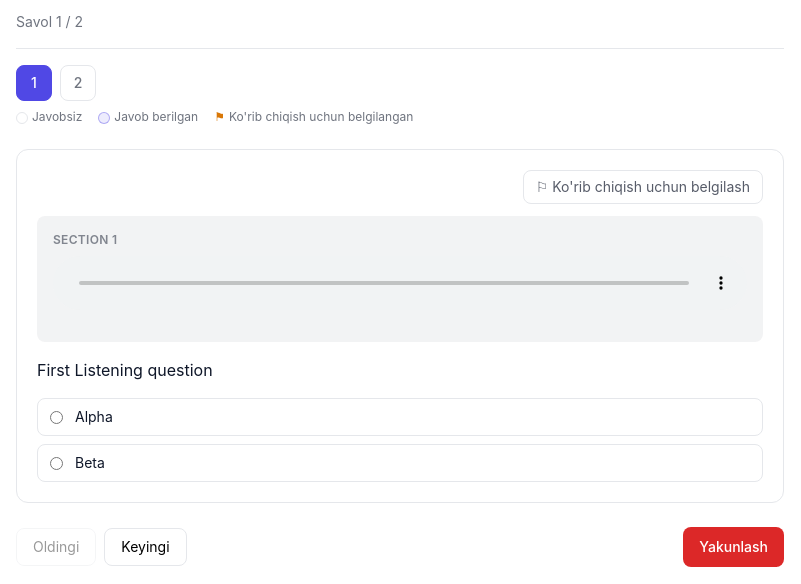
Test: AttemptPage — Task 3 question-group media › keeps the same audio element mounted when moving between questions of the same group
Expected: the text "Brauzeringiz audio pleyerni qo'llab-quvvatlamaydi." is shown, [53,256,747,310]
Click the button "Keyingi": (145, 547) [104,528,187,566]
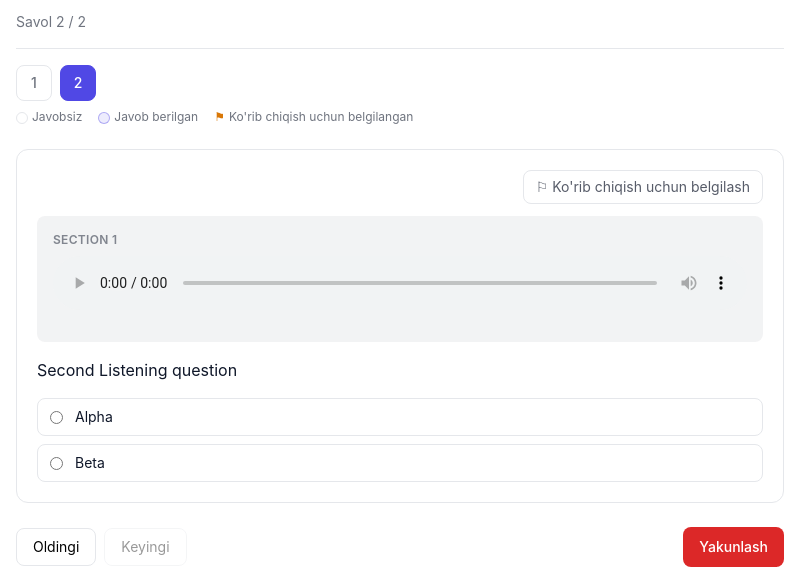
Expected: the text "Second Listening question" is shown, [37,360,237,380]
